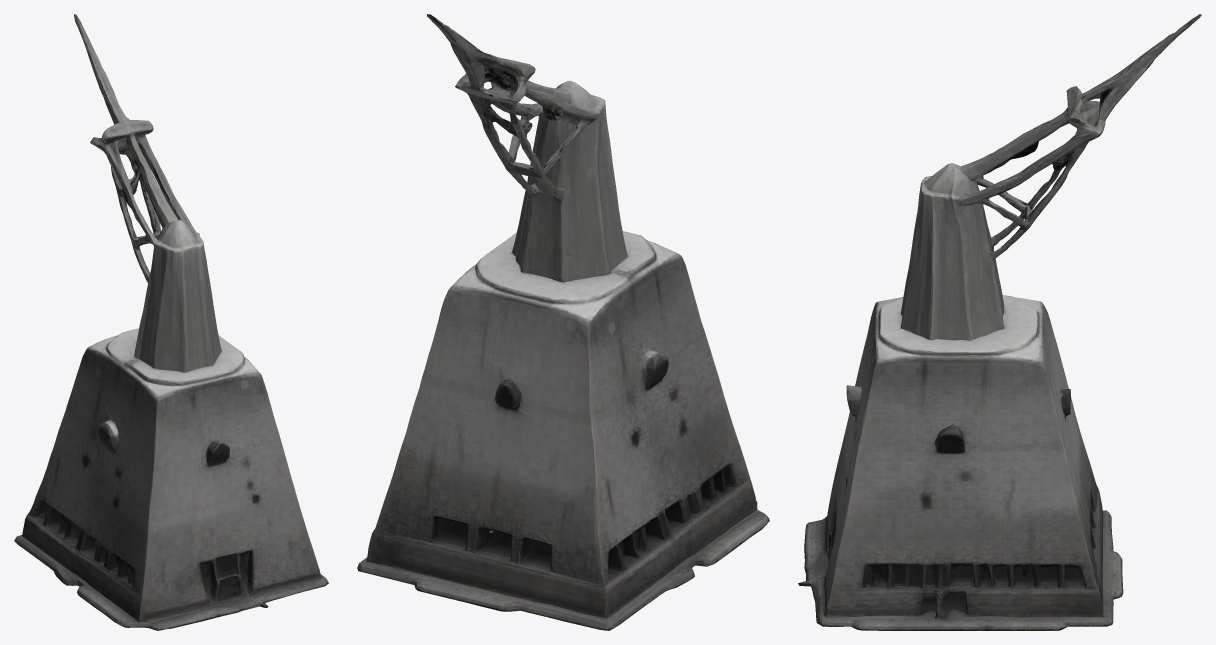
File: domkran_opt.glb
3 renders of one model, left to right at view 1: azimuth 30°, elevation 25°; view 2: azimuth 150°, elevation 25°; view 3: azimuth 270°, elevation 25°, orthographic. The views are drawn at different scales.
Parts seen in each view (by area): view 1: geometry_0; view 2: geometry_0; view 3: geometry_0.
Part boxes in pixels (x1,y1,x2,y2): geometry_0: (14,14,328,630); geometry_0: (357,14,769,630); geometry_0: (798,14,1201,630).
Size of the model in its own units: 0.4624 by 0.9998 by 0.6557.
1 material, 1 textured.
